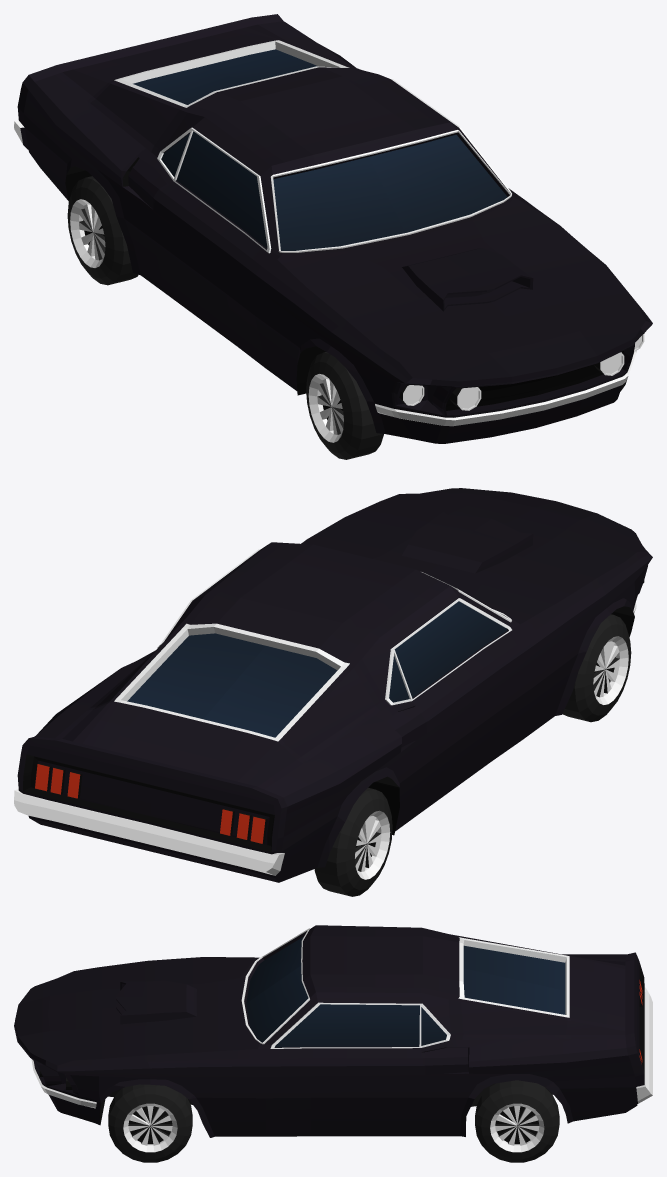
Rendered from Cars2.glb.
3 renders of one model, top to bottom at view 1: azimuth 30°, elevation 25°; view 2: azimuth 150°, elevation 25°; view 3: azimuth 270°, elevation 25°, orthographic. The views are drawn at different scales.
Visible parts, largest first — view 1: Cube, TYRE; view 2: Cube, TYRE; view 3: Cube, TYRE.
Part boxes in pixels (box(x1,y1,x2,y2)): Cube: box(14, 14, 652, 443); TYRE: box(67, 176, 627, 459); Cube: box(14, 488, 652, 882); TYRE: box(314, 614, 631, 896); Cube: box(14, 925, 652, 1137); TYRE: box(108, 1080, 559, 1162).
Size of the model in its own units: 1.27 by 0.8683 by 3.2.
Materials: 1 (1 with a texture image).
